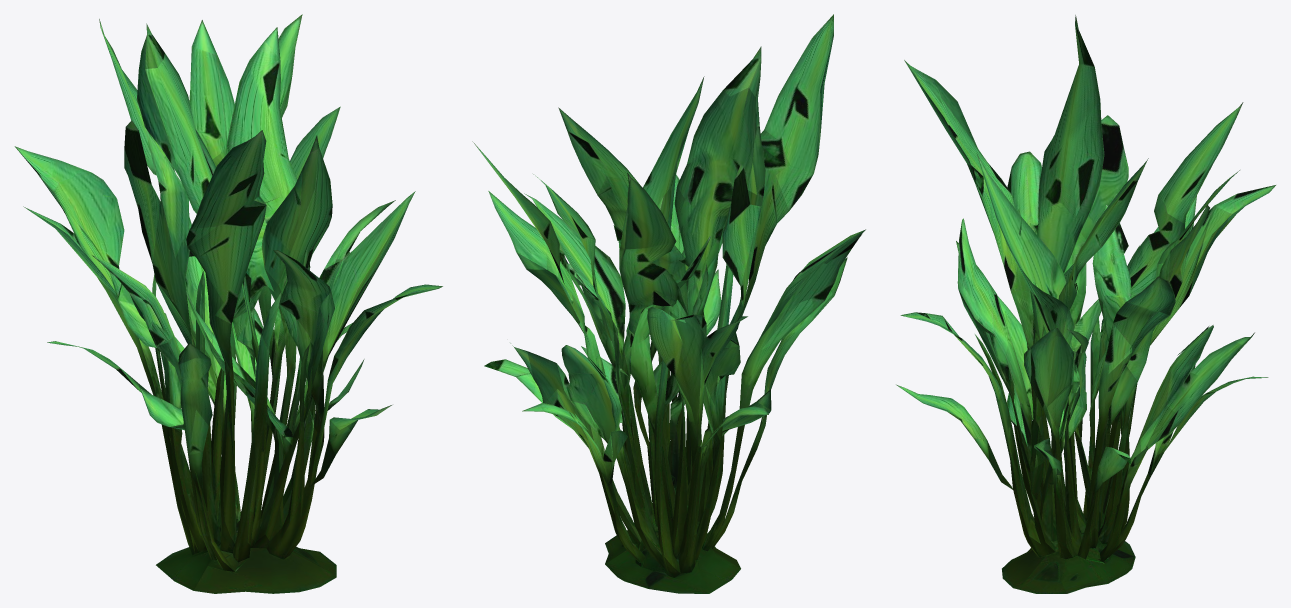
File: plant-sword.glb
The picture shows the model from 3 angles, left to right: view 1: azimuth 30°, elevation 25°; view 2: azimuth 150°, elevation 25°; view 3: azimuth 270°, elevation 25°; orthographic projection. The views are drawn at different scales.
Size of the model in its own units: 0.5675 by 0.9 by 0.6143.
1 material, 1 textured.
